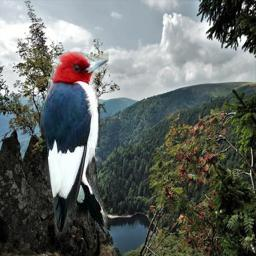Woodpecker: (39, 46, 109, 239)
